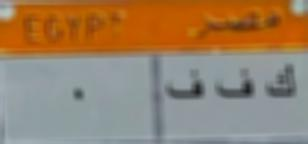0: (64, 80, 95, 110)
faa: (213, 65, 260, 107), (163, 66, 206, 106)
kaaf: (263, 61, 299, 108)
